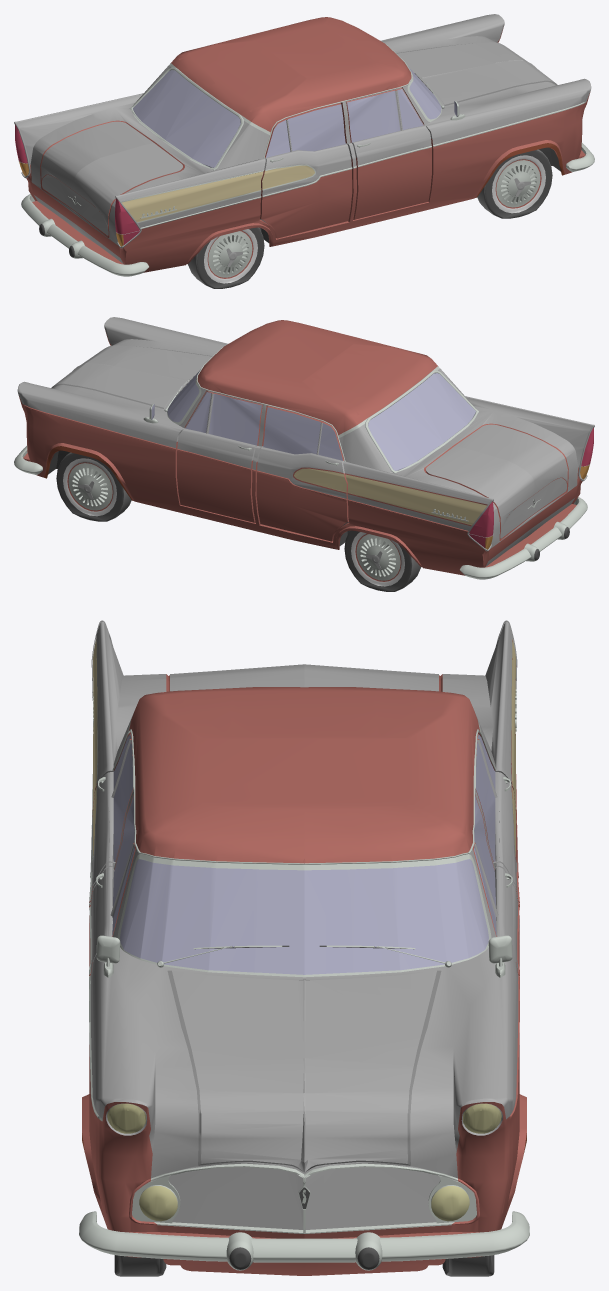
File: secret-simca-chambord.glb
The picture shows the model from 3 angles, top to bottom: view 1: azimuth 30°, elevation 25°; view 2: azimuth 150°, elevation 25°; view 3: azimuth 270°, elevation 25°; orthographic projection. The views are drawn at different scales.
Visible parts, largest first — view 1: Object_2; view 2: Object_2; view 3: Object_2.
Part boxes in pixels (x1,y1,x2,y2): Object_2: (14, 14, 594, 288); Object_2: (14, 317, 594, 591); Object_2: (79, 620, 529, 1276).
Size of the model in its own units: 9845 by 3188 by 3832.
